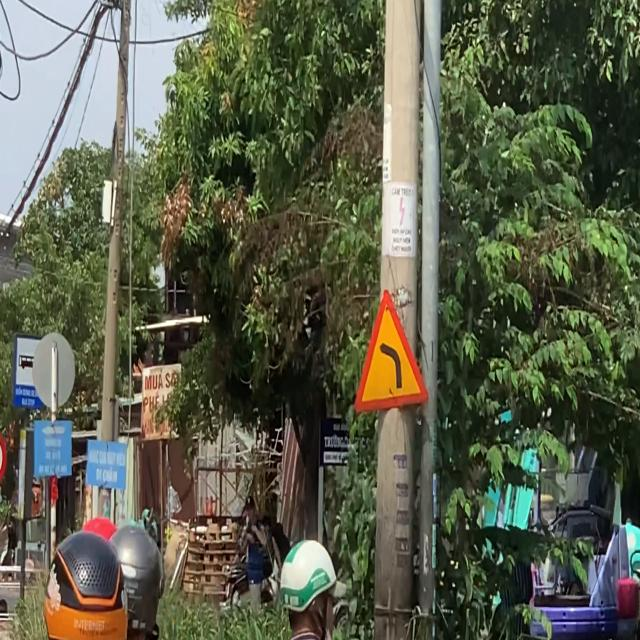Ben xe buyt: (12, 330, 44, 410)
Nguy hiem: (350, 286, 431, 419)
